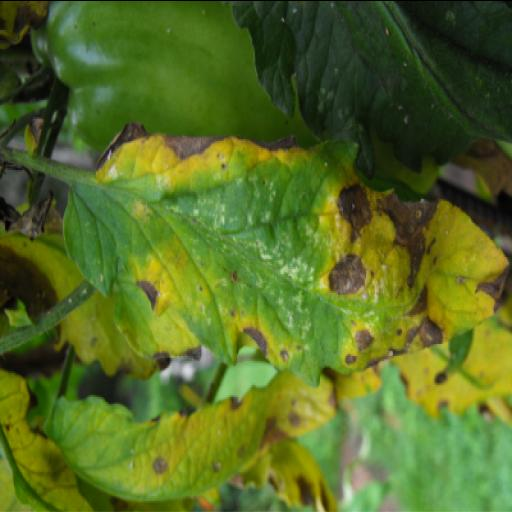disease_tomato: (59, 118, 512, 378)
